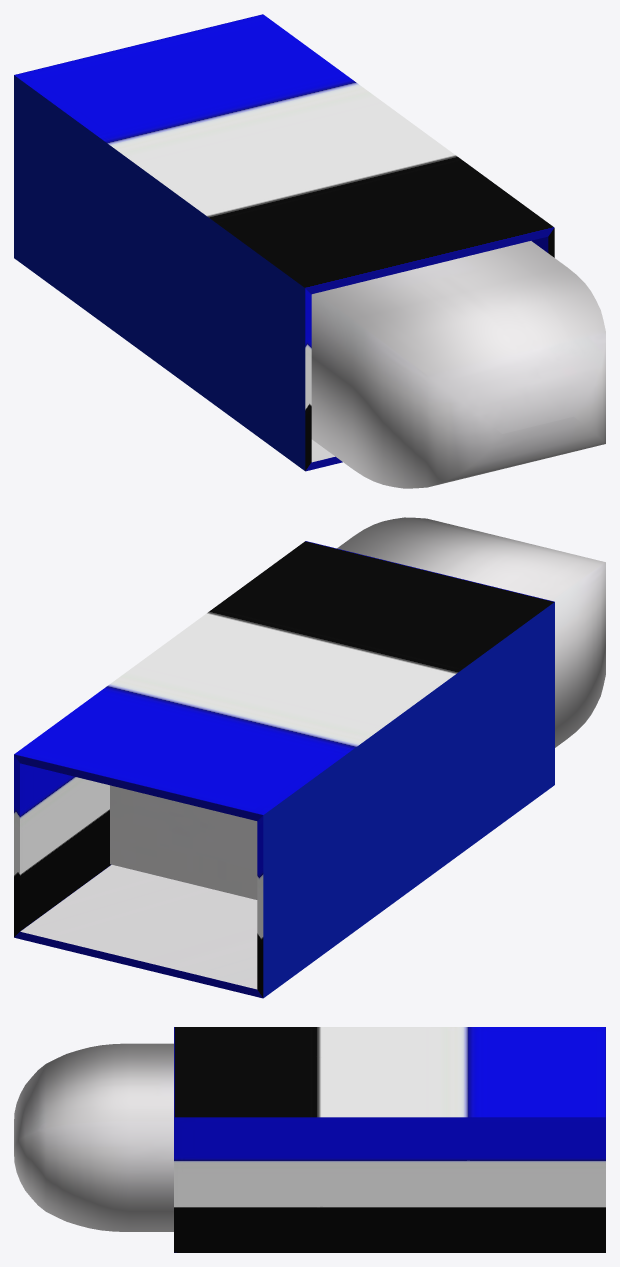
The model's file is 橡皮擦.fbx.
3 views of the same model, one above another, from view 1: azimuth 30°, elevation 25°; view 2: azimuth 150°, elevation 25°; view 3: azimuth 270°, elevation 25° (orthographic). The views are drawn at different scales.
Parts seen in each view (by area): view 1: Box002; view 2: Box002; view 3: Box002.
Boxes of the visible parts, bbox=[...] form: Box002: bbox=[14, 14, 605, 488]; Box002: bbox=[14, 517, 605, 998]; Box002: bbox=[14, 1027, 605, 1252].
Size of the model in its own units: 3.48 by 2.45 by 9.67.
5 materials, 3 textured.
